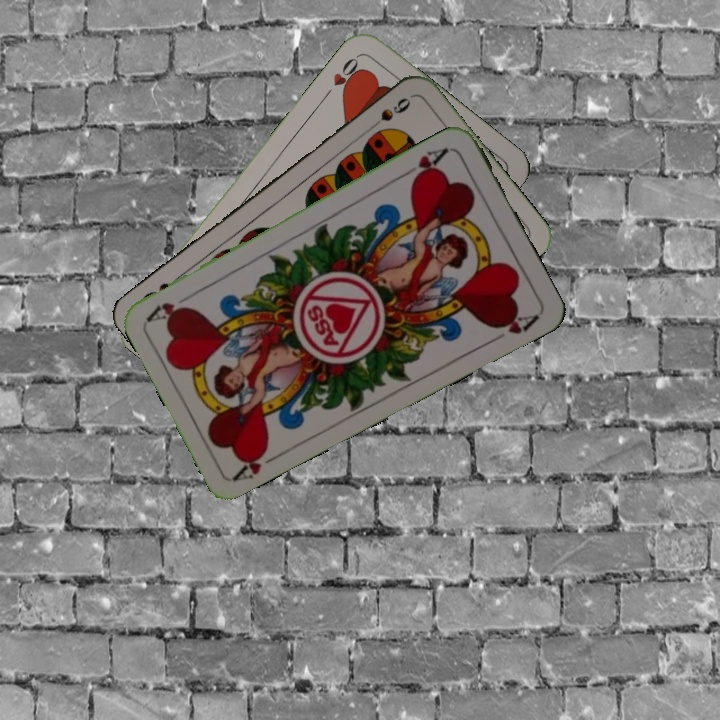HA: (230, 442, 286, 484), (399, 143, 452, 185)
HO: (319, 52, 365, 102)
S9: (363, 93, 414, 135)
